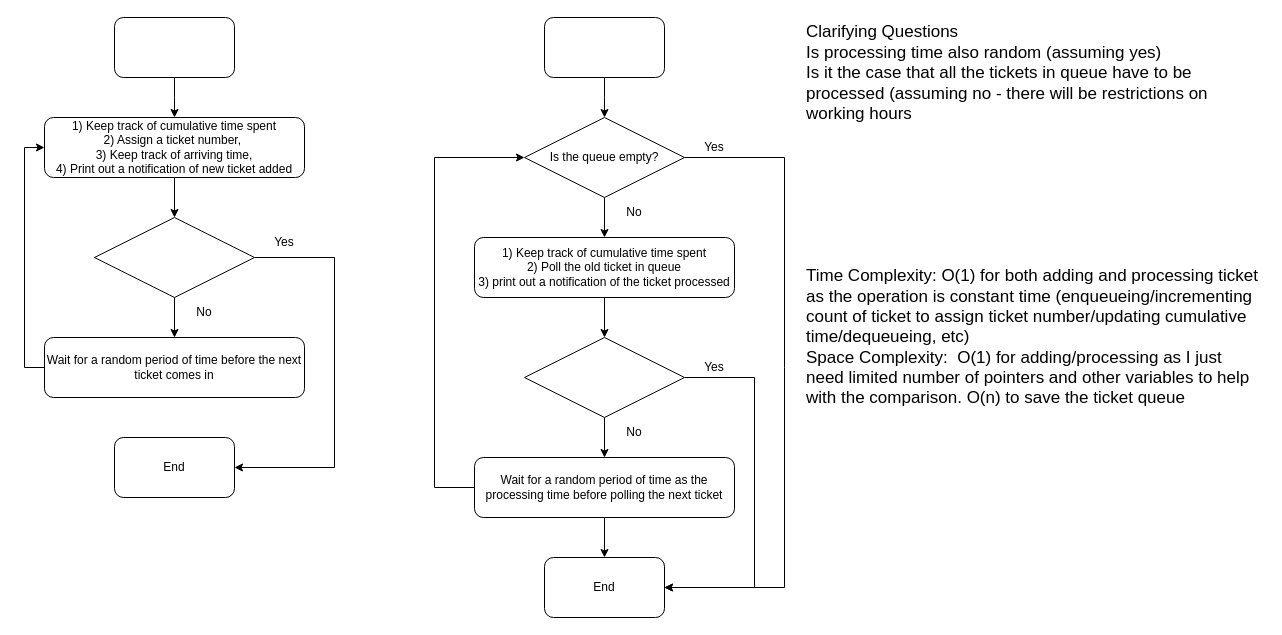
This 1282x635 diagram has some shape labels left out. The shapes that lost their labels are listed below. From the top down, each one's centre as x and y in pixels, then its label:
At (x=174, y=47): "Start, add ticket".
At (x=604, y=47): "Start, process ticket".
At (x=174, y=257): "Has the time limit of generating tickets been reached?".
At (x=604, y=377): "Has the time limit of processing tickets been reached?".
